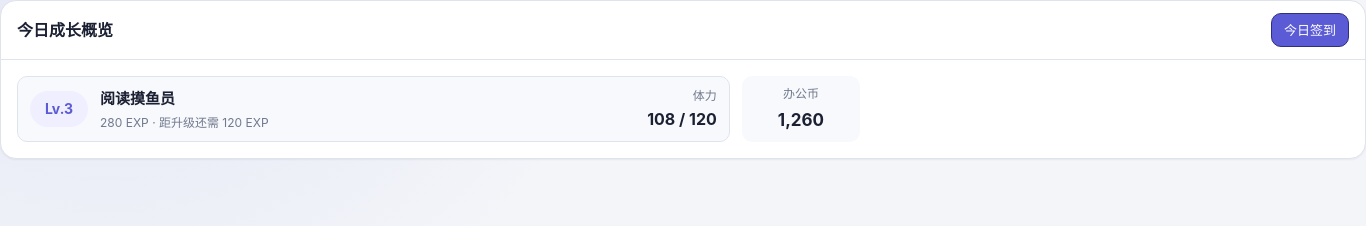
it: PlatformOverviewCard › 签到失败时保留已有数据并提供独立错误提示
This screenshot has width=1366, height=226.
What coordinates should you click on to do the following:
click the button "今日签到"
I would click on:
 (1310, 30)
Its box is [1271,13,1349,47].
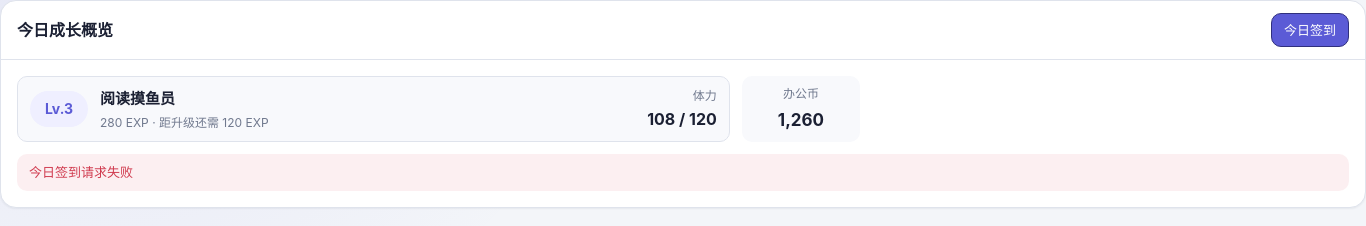
Expected: the text "阅读摸鱼员" is shown, [100,89,175,108]
Expected: the message reads "今日签到请求失败", [29,164,133,180]
